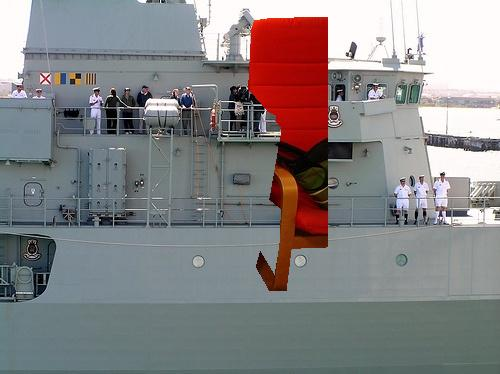tampered: (249, 18, 328, 291)
